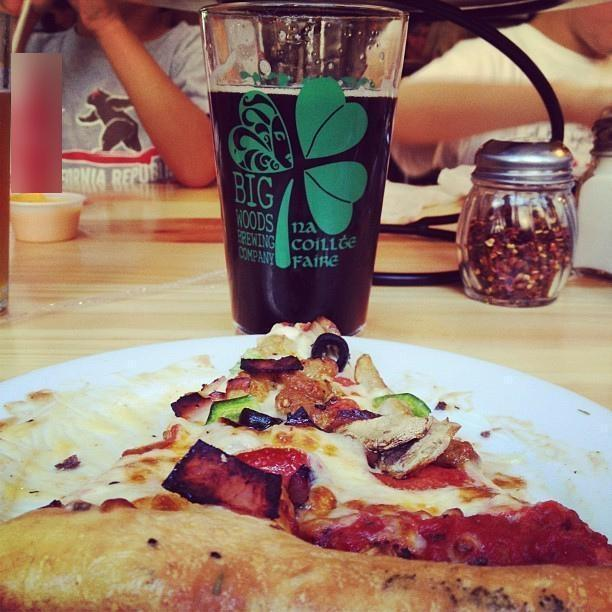glass-normal: (198, 2, 411, 336)
